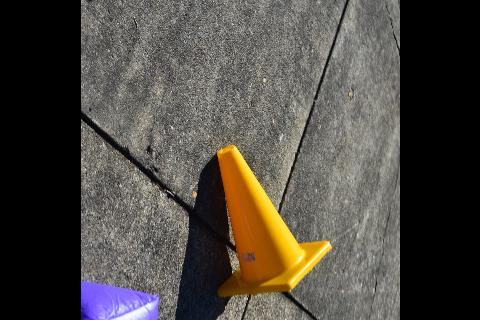cone: (216, 145, 332, 297)
cube: (80, 280, 162, 320)
